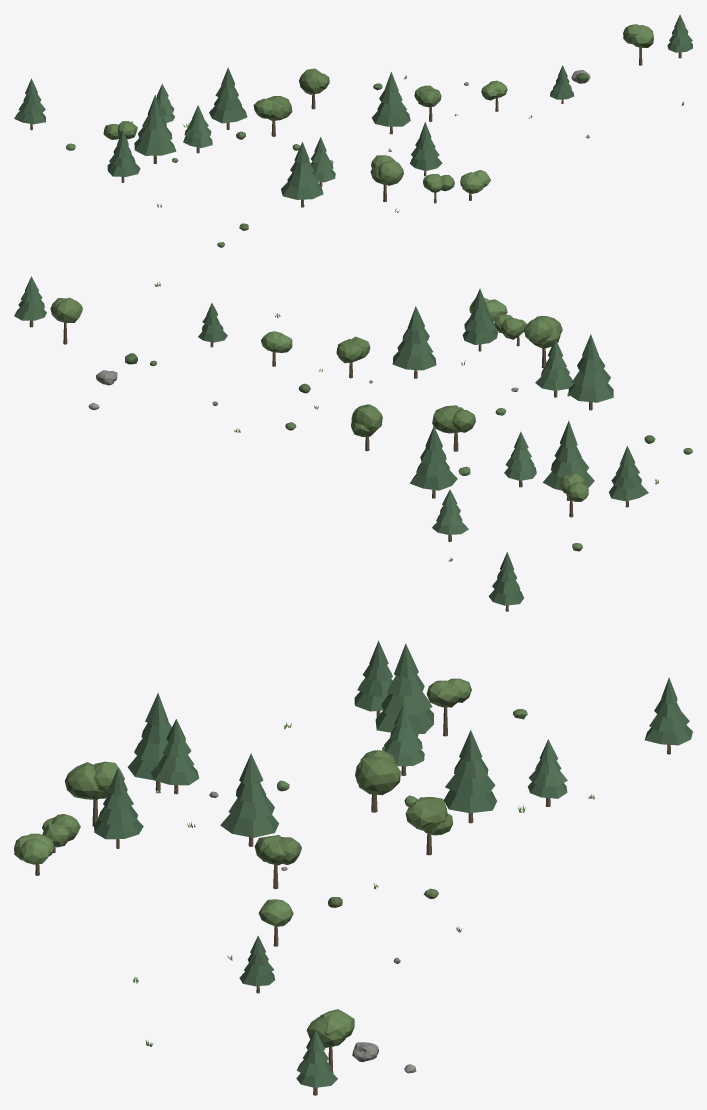
File: arch_land_scatter_c17_21.glb
The picture shows the model from 3 angles, top to bottom: view 1: azimuth 30°, elevation 25°; view 2: azimuth 150°, elevation 25°; view 3: azimuth 270°, elevation 25°; orthographic projection. The views are drawn at different scales.
Visible parts, largest first — view 1: arch_land_scatter_c17_21; view 2: arch_land_scatter_c17_21; view 3: arch_land_scatter_c17_21.
Boxes of the visible parts, <box> form: arch_land_scatter_c17_21: <box>14,14,692,247</box>; arch_land_scatter_c17_21: <box>14,276,692,611</box>; arch_land_scatter_c17_21: <box>14,640,692,1095</box>.
Size of the model in its own units: 127 by 23.2 by 89.16.
